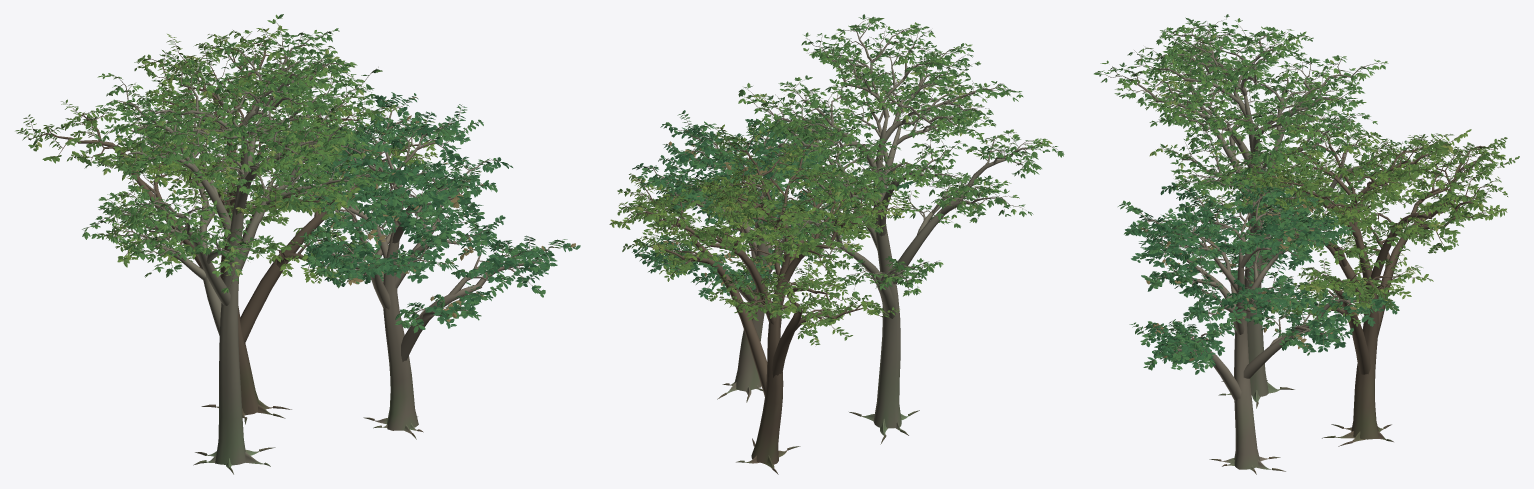
The model's file is trees.gltf.
3 renders of one model, left to right at view 1: azimuth 30°, elevation 25°; view 2: azimuth 150°, elevation 25°; view 3: azimuth 270°, elevation 25°, orthographic. The views are drawn at different scales.
Parts seen in each view (by area): view 1: 01 | Upright canopy, 02 | Rounded canopy, 03 | Spreading canopy; view 2: 01 | Upright canopy, 03 | Spreading canopy, 02 | Rounded canopy; view 3: 02 | Rounded canopy, 01 | Upright canopy, 03 | Spreading canopy.
Part boxes in pixels (<box>): 01 | Upright canopy: <box>82,14,394,474</box>; 02 | Rounded canopy: <box>276,92,580,439</box>; 03 | Spreading canopy: <box>15,25,455,424</box>; 01 | Upright canopy: <box>738,14,1064,444</box>; 03 | Spreading canopy: <box>609,124,912,474</box>; 02 | Rounded canopy: <box>632,109,914,402</box>; 02 | Rounded canopy: <box>1118,166,1399,474</box>; 01 | Upright canopy: <box>1094,14,1431,408</box>; 03 | Spreading canopy: <box>1199,112,1519,446</box>.
Size of the model in its own units: 27.97 by 25.59 by 25.75.
